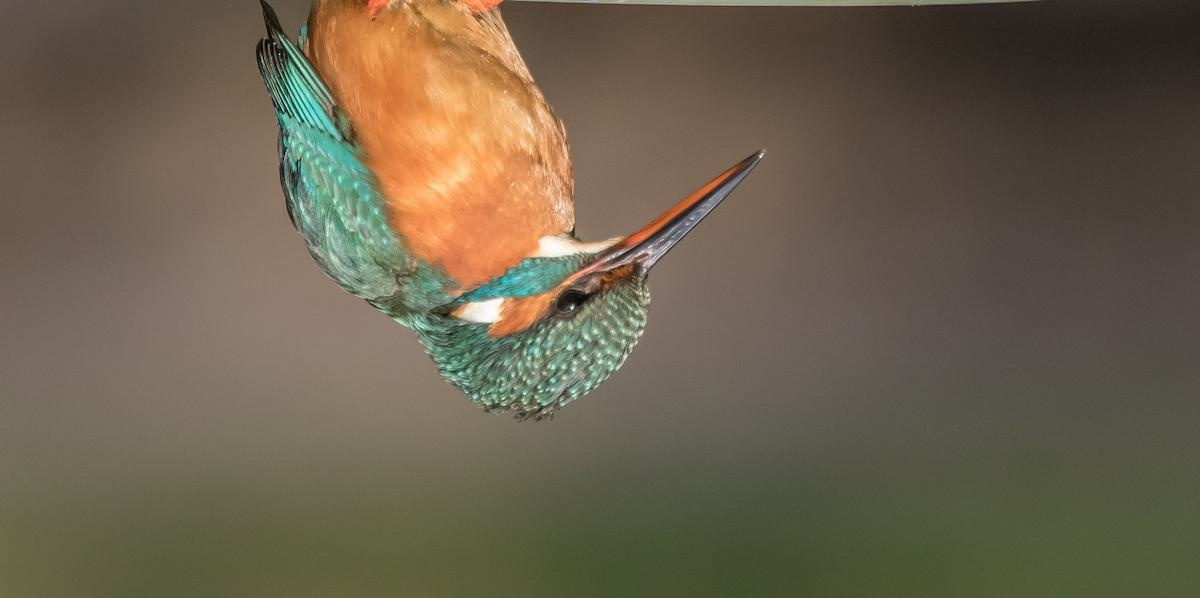kingfisher: (213, 1, 775, 421)
